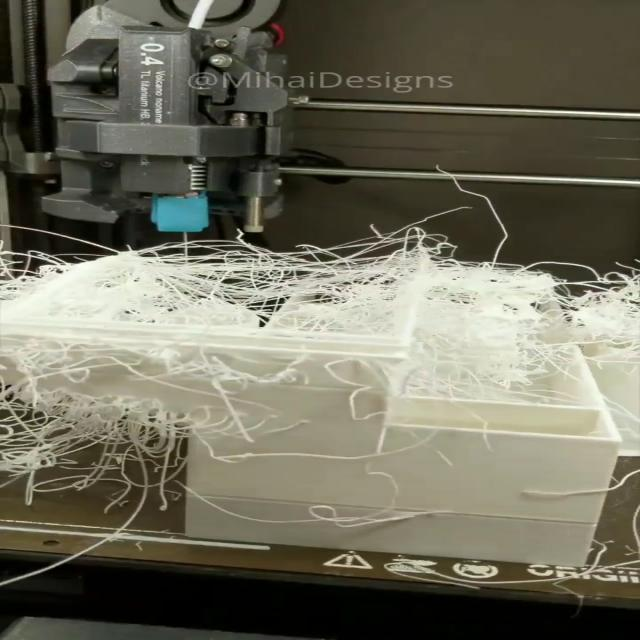spaghetti: (0, 248, 640, 584)
